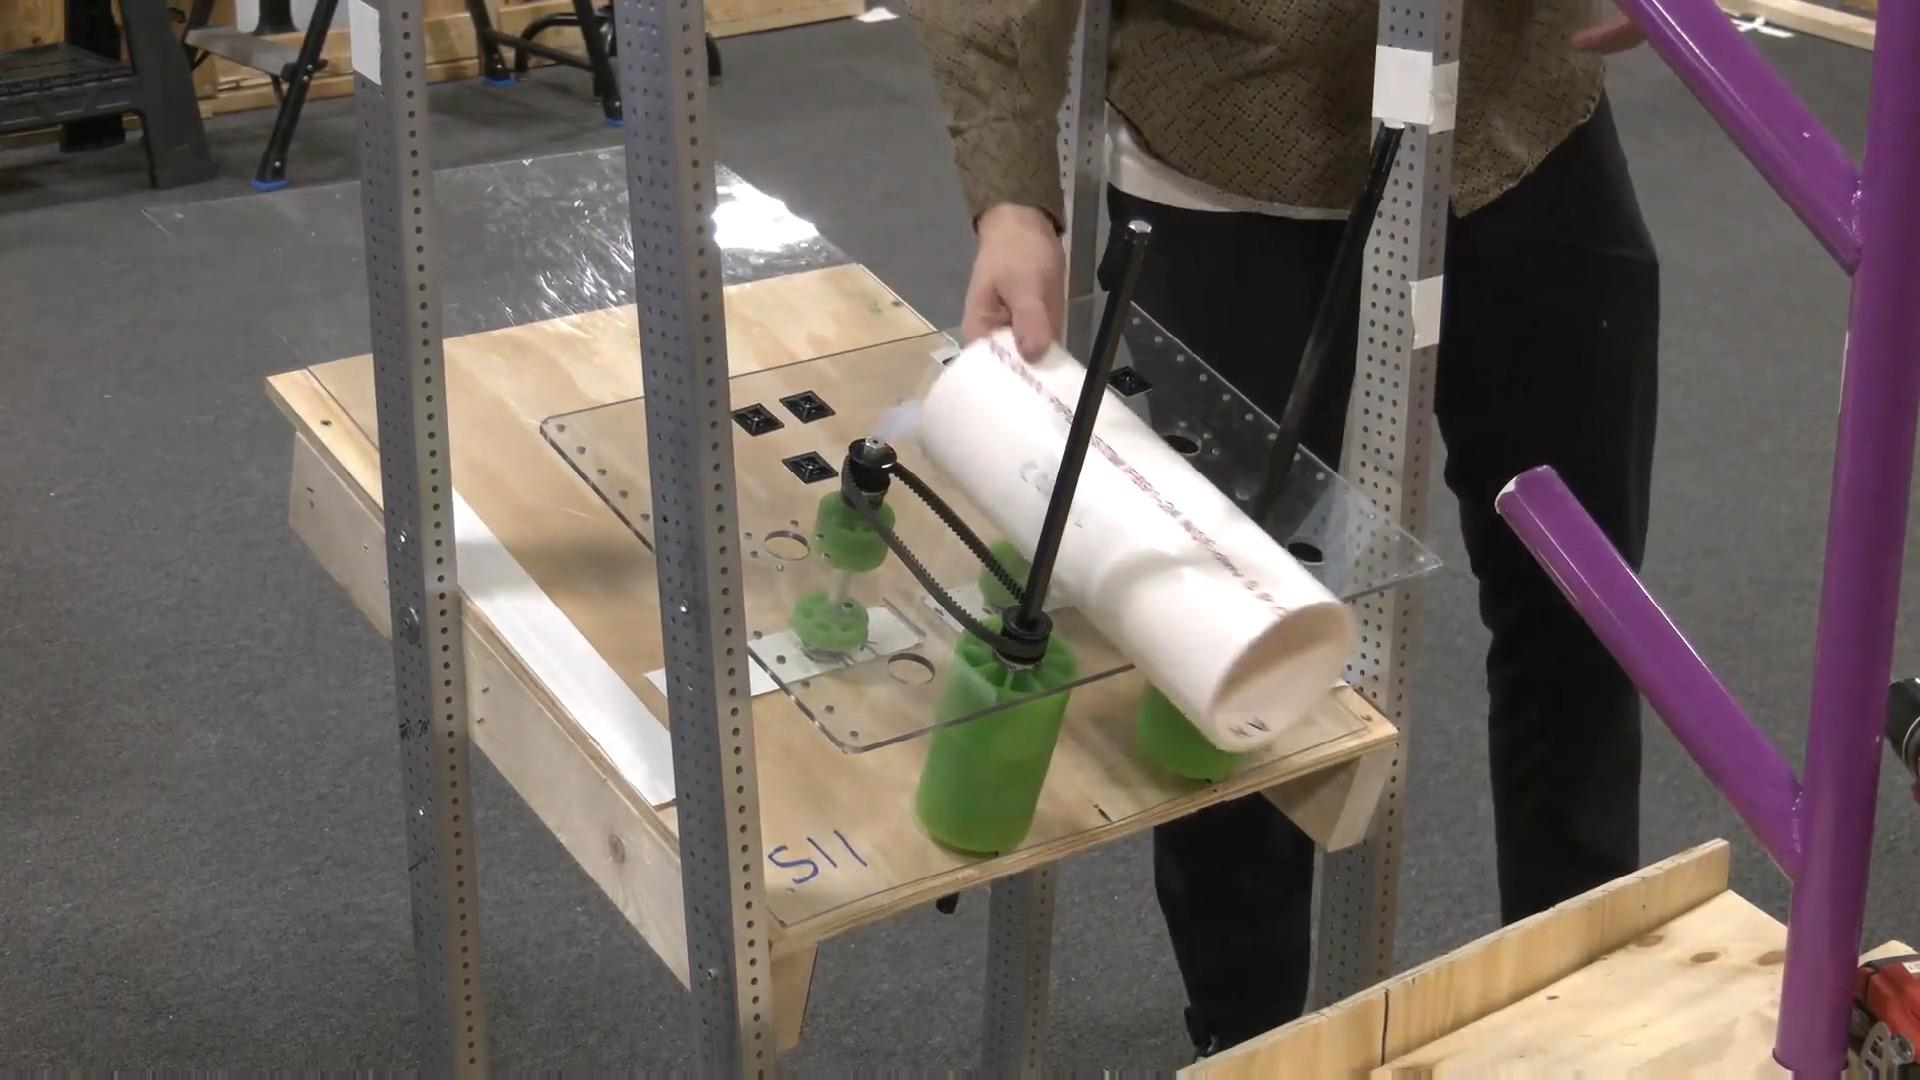coral: (919, 325, 1358, 753)
